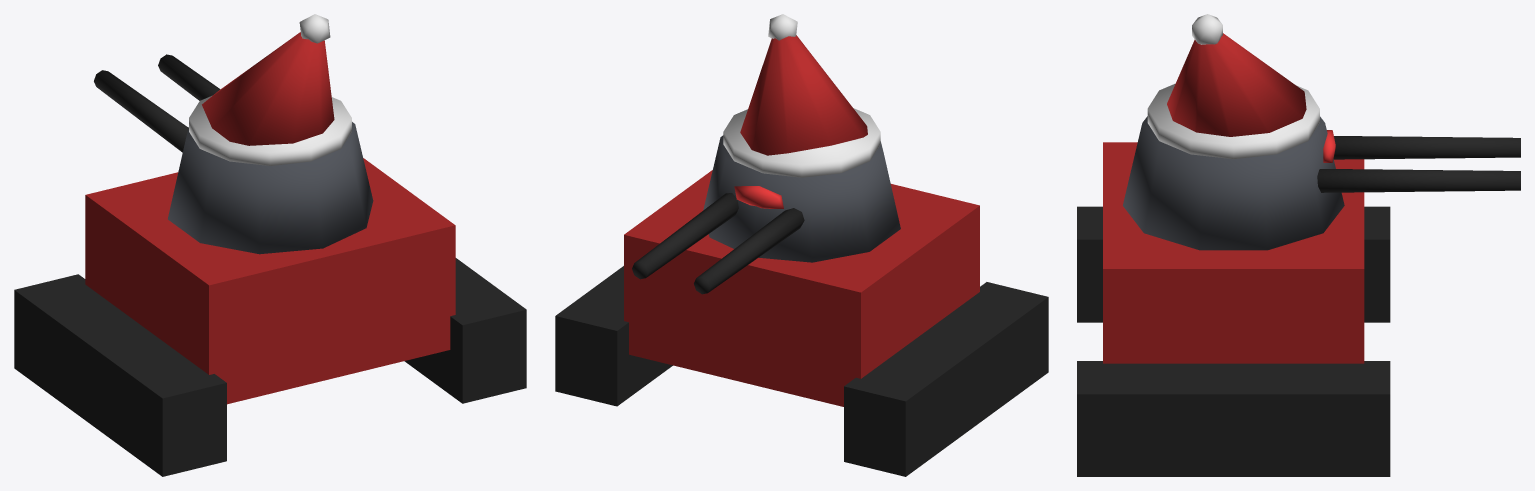
File: santa_nk1.glb
3 views of the same model, side by side, from view 1: azimuth 30°, elevation 25°; view 2: azimuth 150°, elevation 25°; view 3: azimuth 270°, elevation 25° (orthographic). The views are drawn at different scales.
Visible parts, largest first — view 1: santa_nk1; view 2: santa_nk1; view 3: santa_nk1.
Boxes of the visible parts, box(x1,y1,x2,y2) form: santa_nk1: box(14, 14, 526, 476); santa_nk1: box(555, 14, 1048, 476); santa_nk1: box(1077, 14, 1520, 476).
Bounding box in the file's own units: 3.4 × 3.26 × 3.4.
